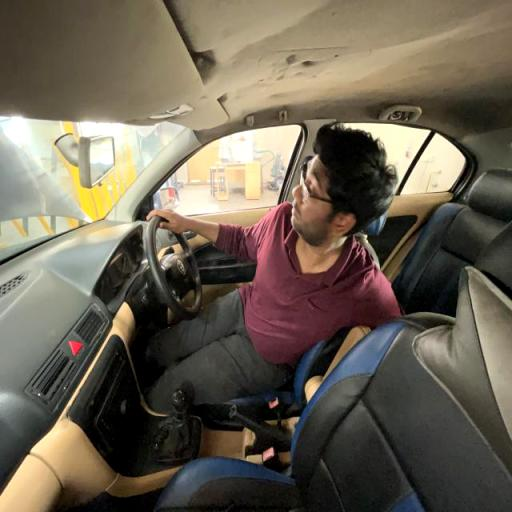Reaching_behind: (148, 126, 405, 400)
